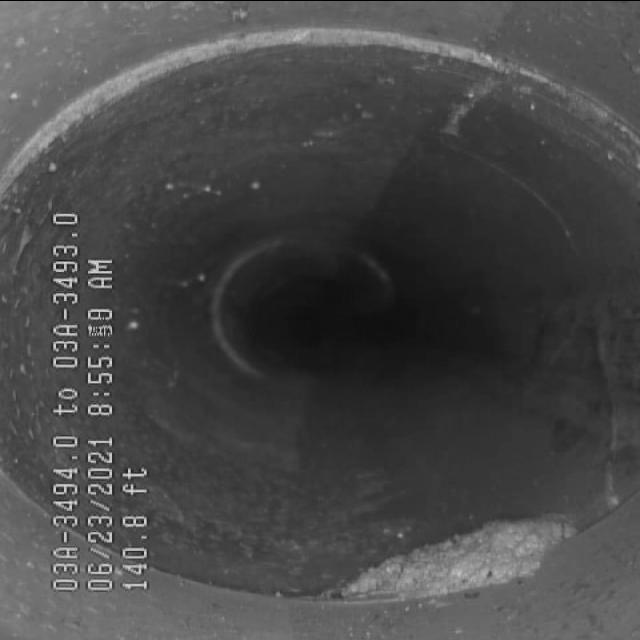Crack: (412, 113, 584, 257)
